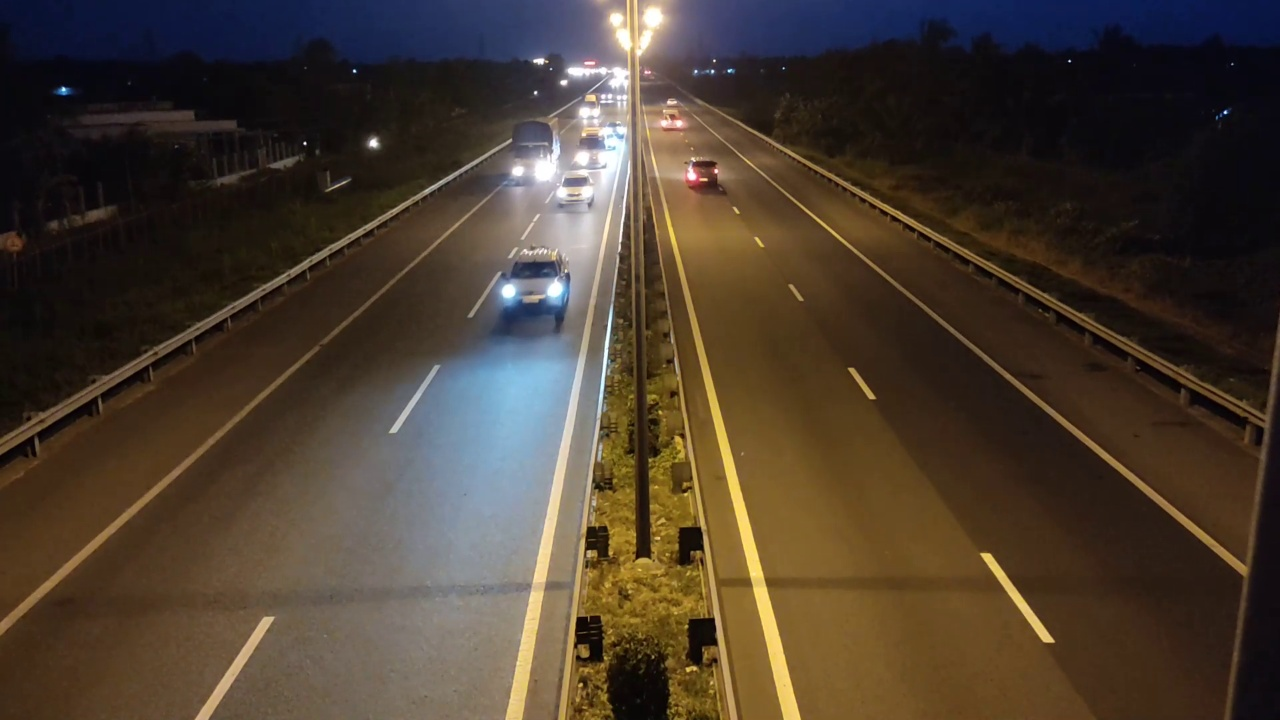car: (496, 244, 572, 330), (557, 171, 595, 209), (683, 158, 722, 193)
